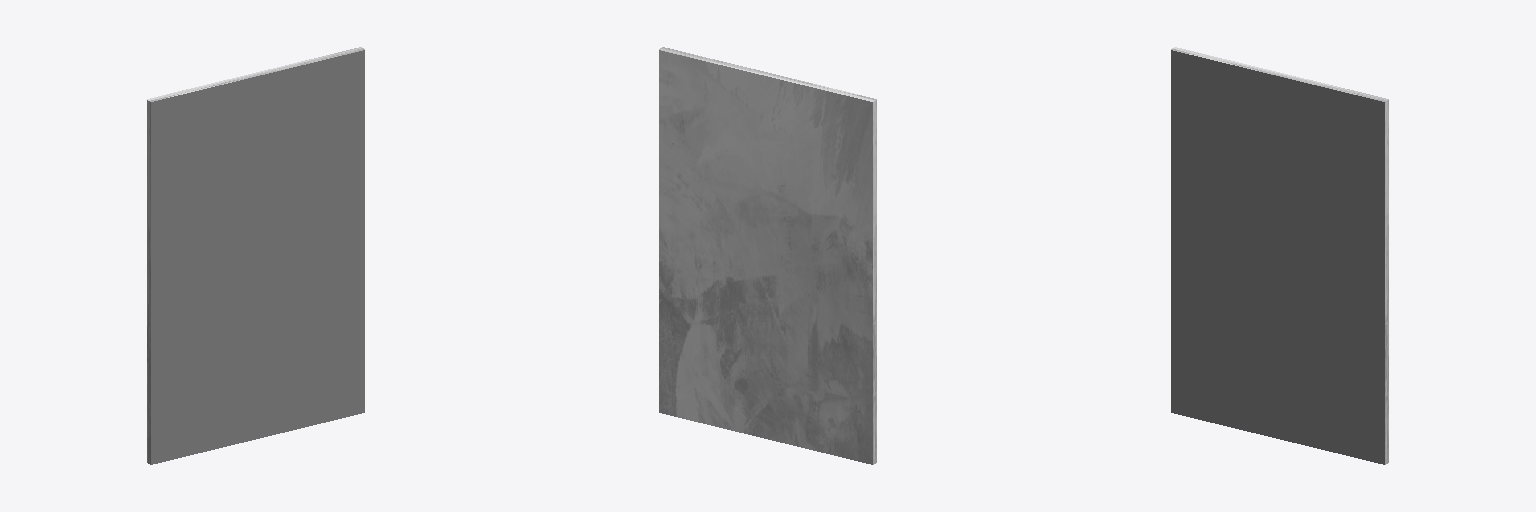
3 views of the same model, side by side, from view 1: azimuth 30°, elevation 25°; view 2: azimuth 150°, elevation 25°; view 3: azimuth 330°, elevation 25° (orthographic).
Parts seen in each view (by area): view 1: Box001; view 2: Box001; view 3: Box001.
Part boxes in pixels (x1,y1,x2,y2): Box001: (147,47,364,464); Box001: (659,47,876,464); Box001: (1171,47,1388,464).
Bounding box in the file's own units: 10.16 × 16.41 × 0.3401.
Materials: 2 (1 with a texture image).